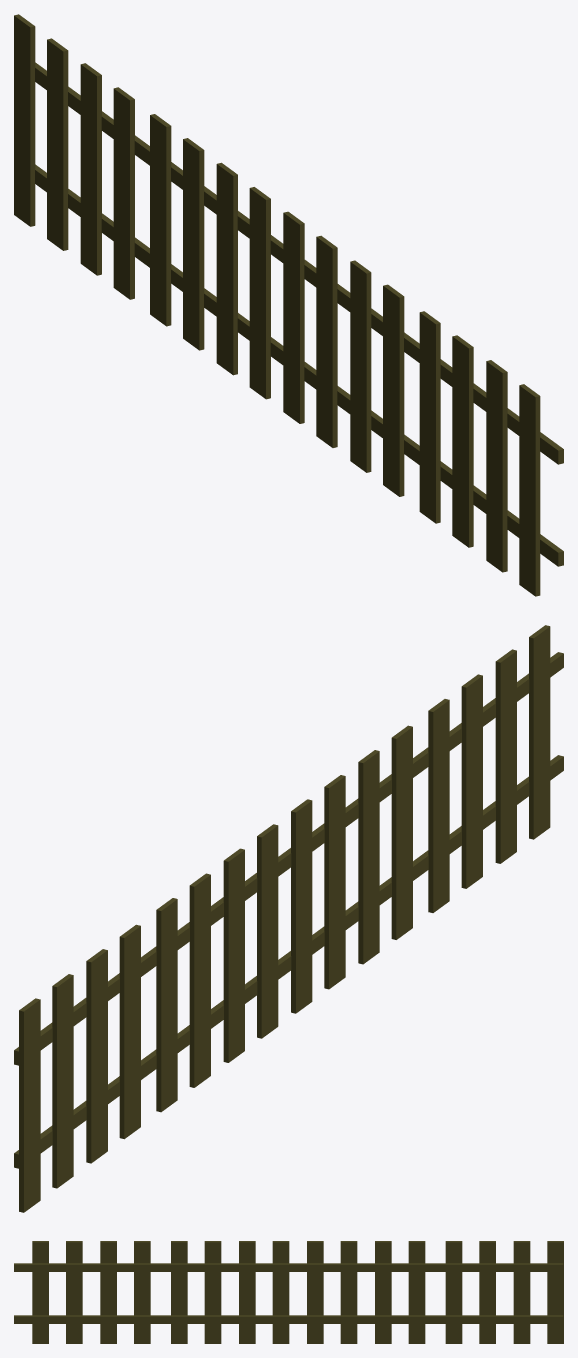
Rendered from Fence.fbx.
3 views of the same model, one above another, from view 1: azimuth 30°, elevation 25°; view 2: azimuth 150°, elevation 25°; view 3: azimuth 270°, elevation 25° (orthographic). The views are drawn at different scales.
Parts seen in each view (by area): view 1: Cube.017; view 2: Cube.017; view 3: Cube.017.
Part boxes in pixels (box(x1,y1,x2,y2)): Cube.017: box(14, 14, 563, 596); Cube.017: box(14, 625, 563, 1212); Cube.017: box(14, 1241, 563, 1343).
Size of the model in its own units: 10.85 by 200 by 981.
